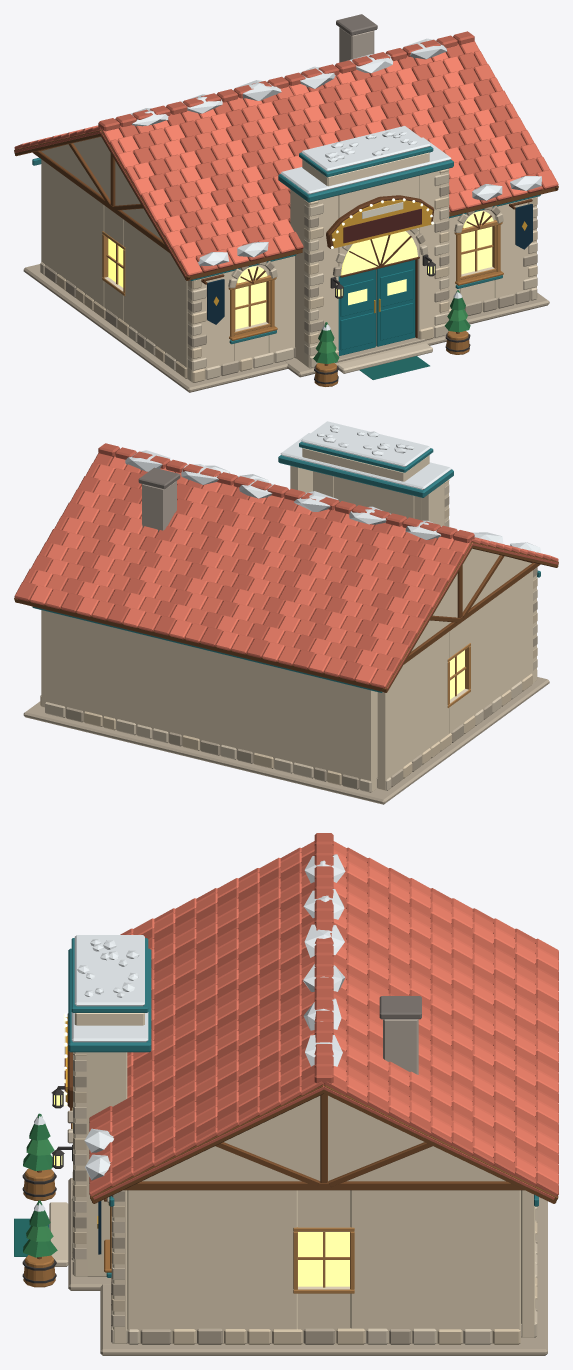
File: casino_exterior.glb
The picture shows the model from 3 angles, top to bottom: view 1: azimuth 30°, elevation 25°; view 2: azimuth 150°, elevation 25°; view 3: azimuth 270°, elevation 25°; orthographic projection. The views are drawn at different scales.
Parts seen in each view (by area): view 1: casino_exterior, casino_exterior_roof, part_door_r, part_door_l; view 2: casino_exterior_roof, casino_exterior; view 3: casino_exterior_roof, casino_exterior.
Boxes of the visible parts, bbox=[...] form: casino_exterior: bbox=[23, 126, 549, 392]; casino_exterior_roof: bbox=[14, 14, 558, 280]; part_door_r: bbox=[374, 260, 415, 346]; part_door_l: bbox=[338, 269, 380, 355]; casino_exterior_roof: bbox=[14, 443, 558, 692]; casino_exterior: bbox=[23, 421, 549, 804]; casino_exterior_roof: bbox=[84, 833, 558, 1203]; casino_exterior: bbox=[14, 935, 547, 1355].
Size of the model in its own units: 9.06 by 5.15 by 8.52.
